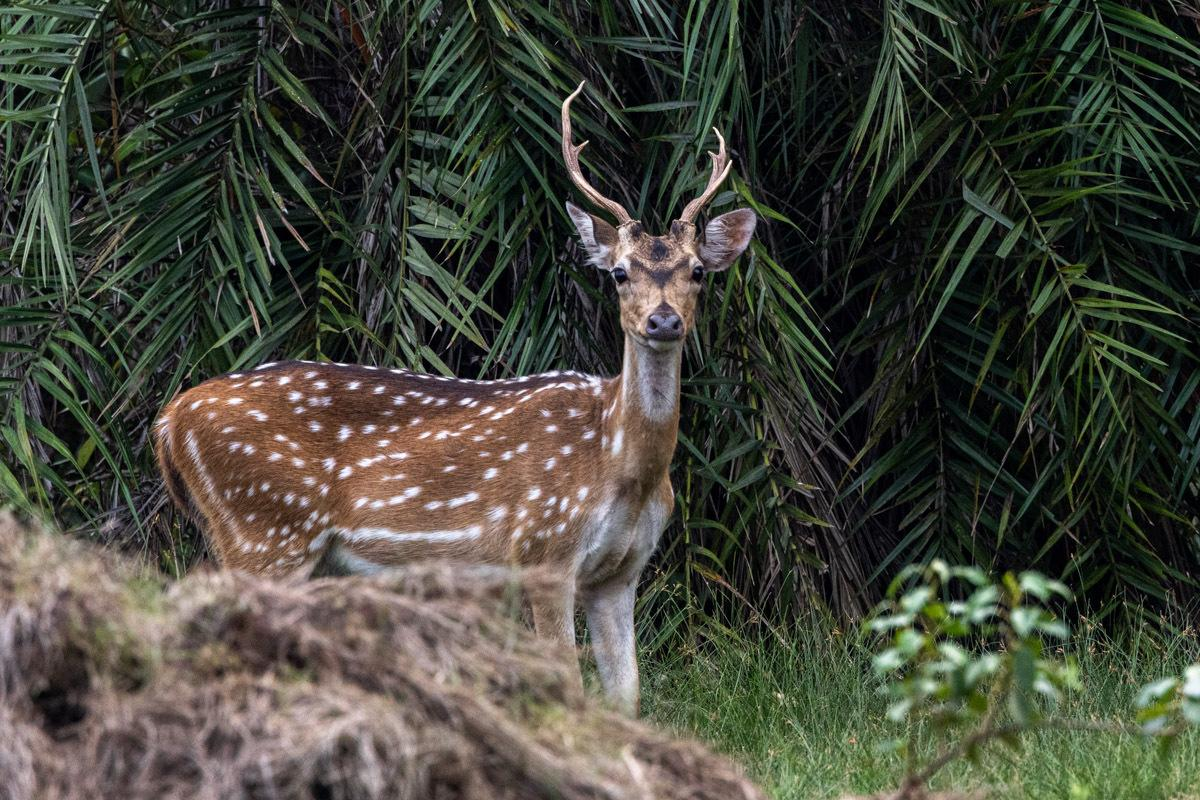Deer: (154, 86, 755, 712)
